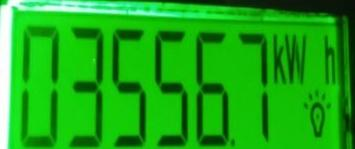.: (273, 32, 340, 87)
0: (230, 138, 238, 147)
1: (18, 21, 63, 144)
4: (69, 23, 106, 148)
6: (110, 24, 150, 147), (152, 27, 191, 149)
7: (193, 27, 232, 146)
8: (237, 30, 273, 149)
